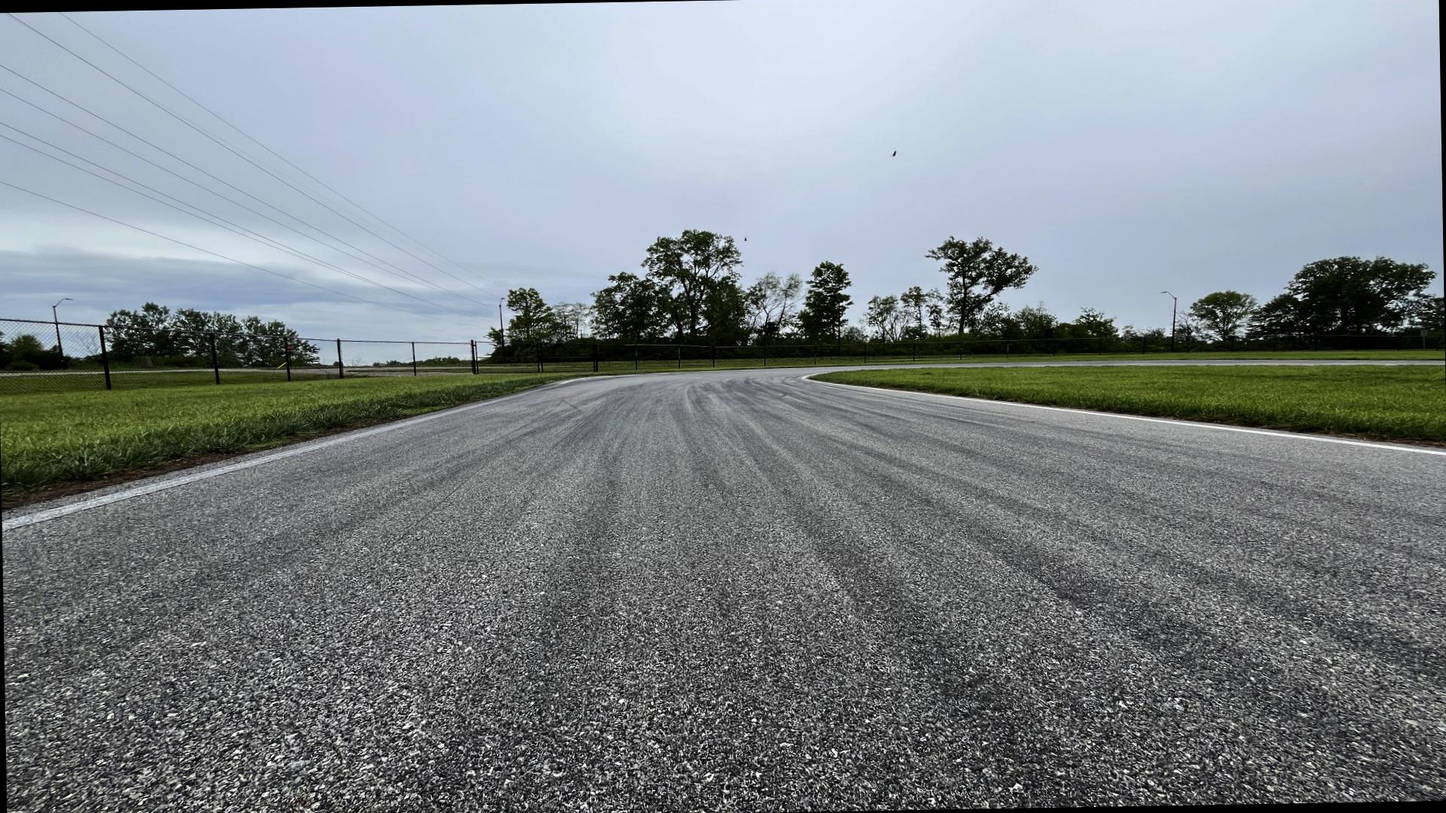white-line: (2, 367, 846, 531), (801, 372, 1445, 455)
